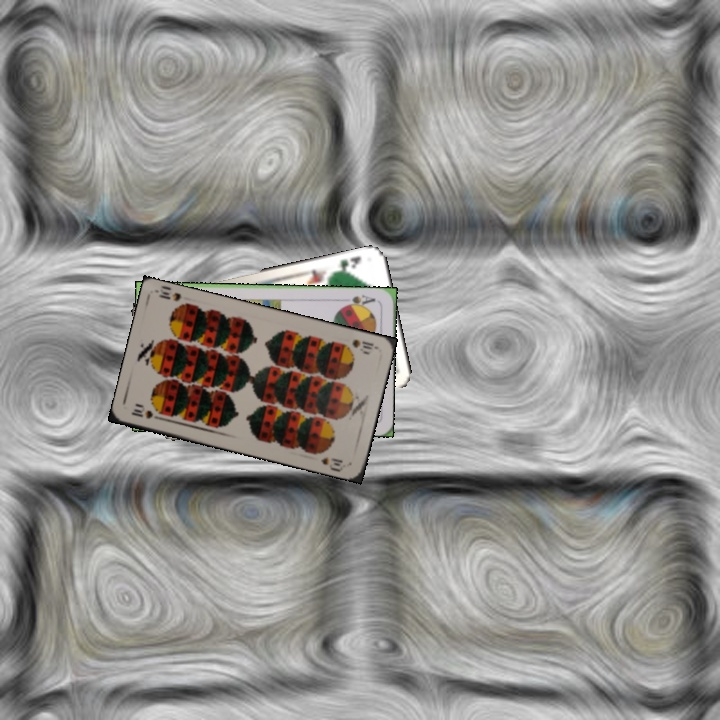GK: (331, 252, 363, 275)
S10: (127, 402, 166, 423), (348, 335, 378, 356)
SA: (339, 291, 378, 310)
